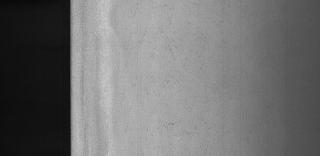silk spot: (132, 15, 204, 98)
